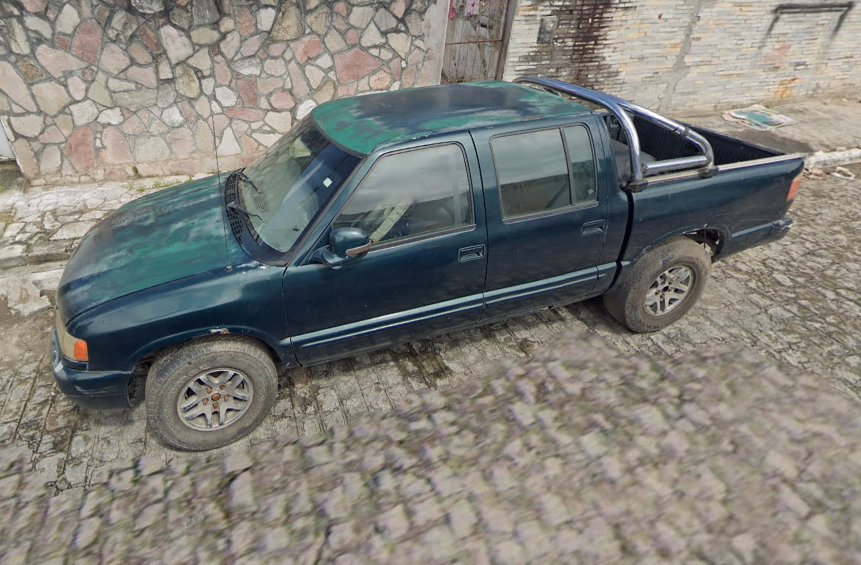car: (47, 74, 809, 454)
